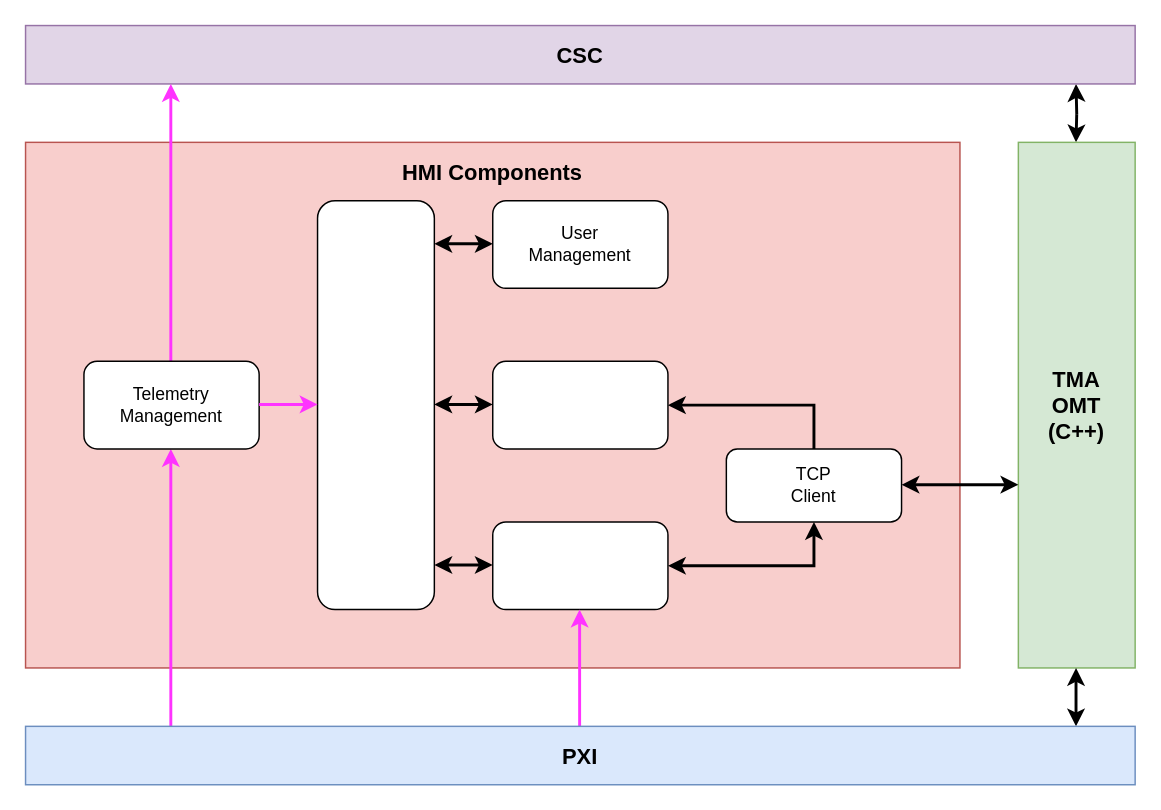
This 1161x810 diagram has some shape labels left out. The shapes that lost their labels are listed below. From the top down, each one's centre as x and y in pixels, then its label:
pixel 375 404: User Interface
pixel 579 404: Alarm Management
pixel 579 565: TMA Commanding
